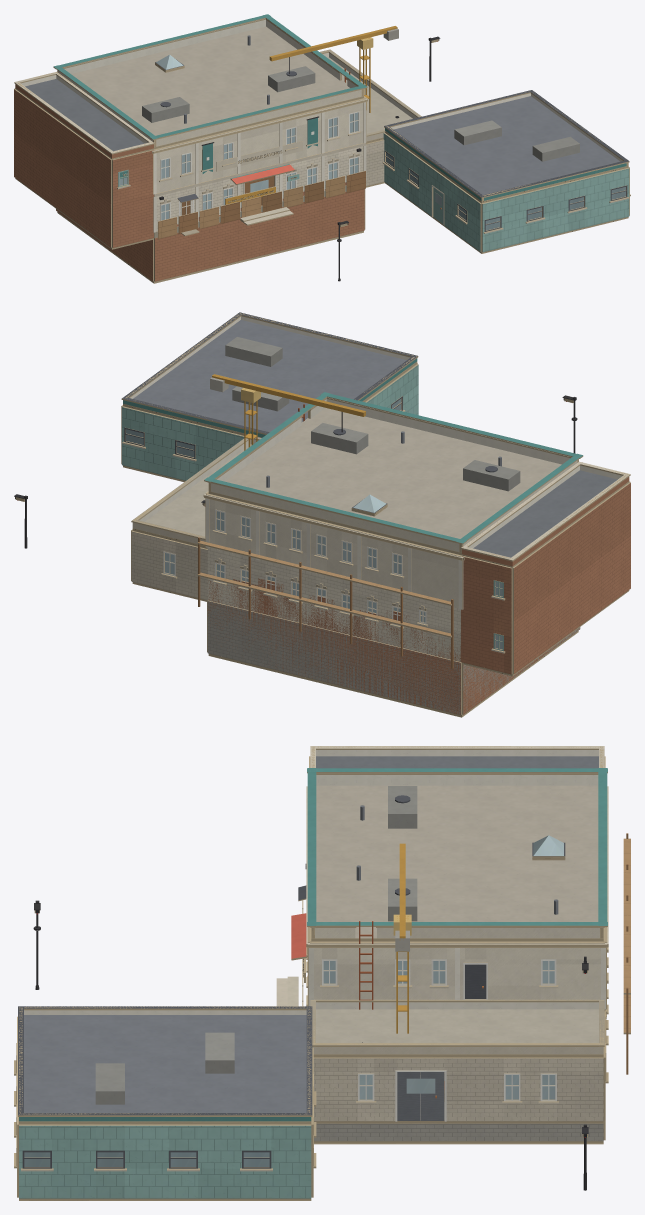
The model's file is bank.glb.
3 views of the same model, one above another, from view 1: azimuth 30°, elevation 25°; view 2: azimuth 150°, elevation 25°; view 3: azimuth 270°, elevation 25° (orthographic). The views are drawn at different scales.
Parts seen in each view (by area): view 1: bank__R__deck, gardenwing__roof__deck, bank__site1946__works, bank__U__wall_s__mesh, gardenwing__G__wall_s__mesh, bank__G__wall_s__mesh, westwing__roof__deck, gardenwing__G__wall_w__mesh, westwing__U__wall_w__mesh, westwing__G__wall_w__mesh, bank__trim1986__R__mesh, annex__roof__deck (+10 smaller); view 2: bank__R__deck, gardenwing__roof__deck, bank__site1946__works, bank__B__wall_n__mesh, bank__U__wall_n__mesh, bank__G__wall_n__mesh, westwing__roof__deck, westwing__U__wall_w__mesh, westwing__G__wall_w__mesh, gardenwing__G__wall_n__mesh, bank__trim1986__R__mesh, annex__roof__deck (+7 smaller); view 3: bank__R__deck, gardenwing__roof__deck, gardenwing__G__wall_e__mesh, annex__G__wall_e__mesh, annex__roof__deck, bank__U__wall_e__mesh, westwing__roof__deck, bank__trim1986__R__mesh, bank__B__wall_e__mesh, bank__site1946__works, bank__site1946__crane__mesh, bank__B__floor (+3 smaller).
Boxes of the visible parts, left/top/right/bottom form: bank__R__deck: left=57, top=18, right=367, bottom=153; gardenwing__roof__deck: left=384, top=90, right=629, bottom=203; bank__site1946__works: left=56, top=171, right=365, bottom=281; bank__U__wall_s__mesh: left=153, top=98, right=366, bottom=194; gardenwing__G__wall_s__mesh: left=481, top=168, right=629, bottom=252; bank__G__wall_s__mesh: left=153, top=143, right=366, bottom=238; westwing__roof__deck: left=14, top=71, right=154, bottom=159; gardenwing__G__wall_w__mesh: left=382, top=132, right=481, bottom=251; westwing__U__wall_w__mesh: left=14, top=89, right=111, bottom=203; westwing__G__wall_w__mesh: left=14, top=133, right=111, bottom=247; bank__trim1986__R__mesh: left=53, top=14, right=367, bottom=140; annex__roof__deck: left=320, top=49, right=421, bottom=143; bank__R__deck: left=203, top=397, right=578, bottom=560; gardenwing__roof__deck: left=121, top=312, right=418, bottom=437; bank__site1946__works: left=197, top=537, right=579, bottom=714; bank__B__wall_n__mesh: left=207, top=600, right=461, bottom=714; bank__U__wall_n__mesh: left=205, top=493, right=462, bottom=609; bank__G__wall_n__mesh: left=207, top=548, right=460, bottom=661; westwing__roof__deck: left=460, top=461, right=630, bottom=567; westwing__U__wall_w__mesh: left=512, top=482, right=630, bottom=620; westwing__G__wall_w__mesh: left=512, top=536, right=630, bottom=673; gardenwing__G__wall_n__mesh: left=122, top=406, right=244, bottom=480; bank__trim1986__R__mesh: left=204, top=392, right=583, bottom=544; annex__roof__deck: left=131, top=437, right=261, bottom=548; bank__R__deck: left=306, top=773, right=608, bottom=947; gardenwing__roof__deck: left=18, top=1006, right=312, bottom=1124; gardenwing__G__wall_e__mesh: left=19, top=1124, right=311, bottom=1198; annex__G__wall_e__mesh: left=313, top=1057, right=603, bottom=1121; annex__roof__deck: left=310, top=999, right=604, bottom=1057; bank__U__wall_e__mesh: left=308, top=921, right=605, bottom=1009; westwing__roof__deck: left=310, top=746, right=604, bottom=768; bank__trim1986__R__mesh: left=307, top=768, right=607, bottom=927; bank__B__wall_e__mesh: left=314, top=1123, right=603, bottom=1141; bank__site1946__works: left=302, top=833, right=630, bottom=1140; bank__site1946__crane__mesh: left=393, top=843, right=411, bottom=1033; bank__B__floor: left=314, top=1141, right=603, bottom=1144.
Bounding box in the file's own units: 20.2 × 7.68 × 16.89.
Materials: 8 (8 with a texture image).
